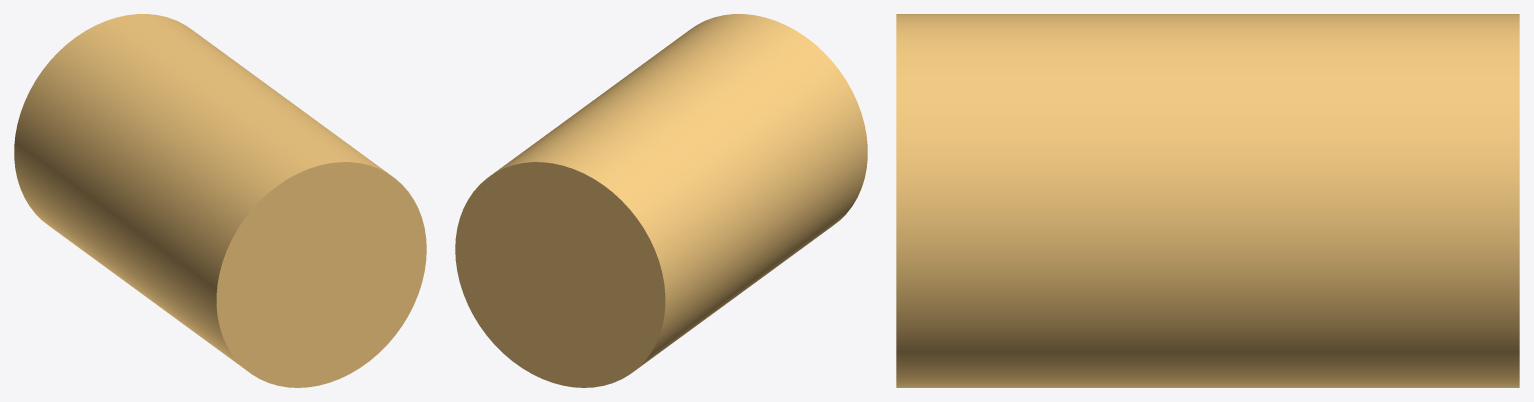
File: booleans-common.glb
3 renders of one model, left to right at view 1: azimuth 30°, elevation 25°; view 2: azimuth 150°, elevation 25°; view 3: azimuth 270°, elevation 25°, orthographic. The views are drawn at different scales.
Parts seen in each view (by area): view 1: COMPOUND; view 2: COMPOUND; view 3: COMPOUND.
Boxes of the visible parts, x1,y1,x2,y2 form: COMPOUND: (14, 14, 426, 387); COMPOUND: (455, 14, 867, 387); COMPOUND: (896, 14, 1519, 387).
Size of the model in its own units: 6 by 6 by 10.
